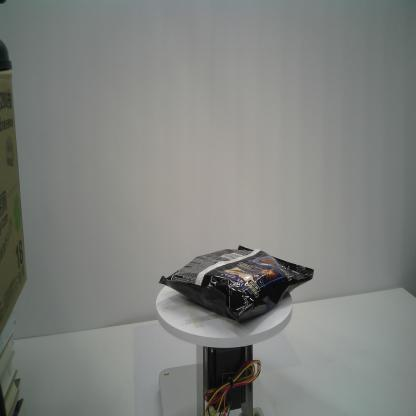Instant Noodles: (158, 243, 314, 325)
